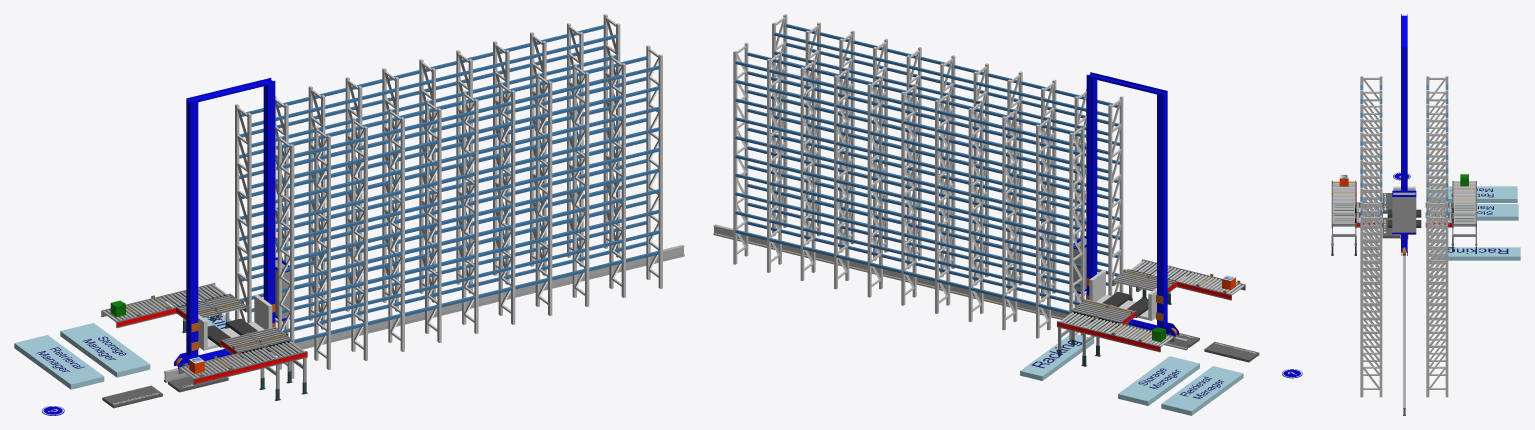
The model's file is zidonghua.obj.
3 views of the same model, side by side, from view 1: azimuth 30°, elevation 25°; view 2: azimuth 150°, elevation 25°; view 3: azimuth 270°, elevation 25° (orthographic). The views are drawn at different scales.
Parts seen in each view (by area): view 1: PalletRack3, PalletRack1, Mast2, Rail1, Shelf56, Mast1, Shelf47, Shelf55, Shelf51, Shelf53, Shelf49, Shelf48 (+15 smaller); view 2: PalletRack1, PalletRack3, Rail1, Mast2, Mast1, Shelf46, Shelf41, Shelf1, Shelf45, Shelf43, Shelf42, Shelf38 (+15 smaller); view 3: PalletRack1, PalletRack3, Mast1, RackConfigurator, Box4, SRM2, SRM1, StartSupport, Rail1, Shelf56, Shelf46, SR15 (+13 smaller).
Boxes of the visible parts, left/top/right/bottom form: PalletRack3: left=277, top=45, right=662, bottom=378; PalletRack1: left=235, top=14, right=620, bottom=335; Mast2: left=186, top=101, right=198, bottom=358; Rail1: left=164, top=244, right=684, bottom=382; Shelf56: left=282, top=56, right=660, bottom=157; Mast1: left=263, top=83, right=275, bottom=323; Shelf47: left=282, top=241, right=660, bottom=343; Shelf55: left=282, top=76, right=660, bottom=178; Shelf51: left=282, top=159, right=660, bottom=260; Shelf53: left=282, top=118, right=660, bottom=219; Shelf49: left=282, top=200, right=660, bottom=302; Shelf48: left=282, top=221, right=660, bottom=322; PalletRack1: left=733, top=42, right=1084, bottom=341; PalletRack3: left=772, top=14, right=1123, bottom=306; Rail1: left=713, top=224, right=1187, bottom=350; Mast2: left=1157, top=93, right=1167, bottom=328; Mast1: left=1086, top=77, right=1097, bottom=298; Shelf46: left=735, top=52, right=1080, bottom=145; Shelf41: left=735, top=146, right=1079, bottom=238; Shelf1: left=735, top=221, right=1079, bottom=314; Shelf45: left=735, top=71, right=1079, bottom=163; Shelf43: left=735, top=108, right=1080, bottom=201; Shelf42: left=735, top=127, right=1080, bottom=220; Shelf38: left=735, top=202, right=1080, bottom=295; PalletRack1: left=1426, top=76, right=1448, bottom=397; PalletRack3: left=1360, top=76, right=1382, bottom=397; Mast1: left=1401, top=48, right=1407, bottom=247; RackConfigurator: left=1433, top=247, right=1520, bottom=260; Box4: left=1392, top=192, right=1416, bottom=232; SRM2: left=1429, top=186, right=1517, bottom=202; SRM1: left=1435, top=204, right=1518, bottom=220; StartSupport: left=1331, top=224, right=1477, bottom=255; Rail1: left=1403, top=247, right=1405, bottom=415; Shelf56: left=1360, top=85, right=1382, bottom=215; Shelf46: left=1426, top=85, right=1448, bottom=215; SR15: left=1331, top=192, right=1356, bottom=203.
Bounding box in the file's own units: 13.06 × 5.38 × 4.3.
24 materials, 2 textured.
